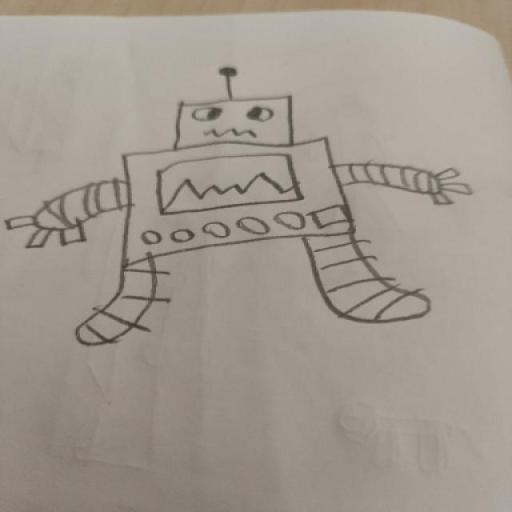person: (0, 59, 504, 358)
